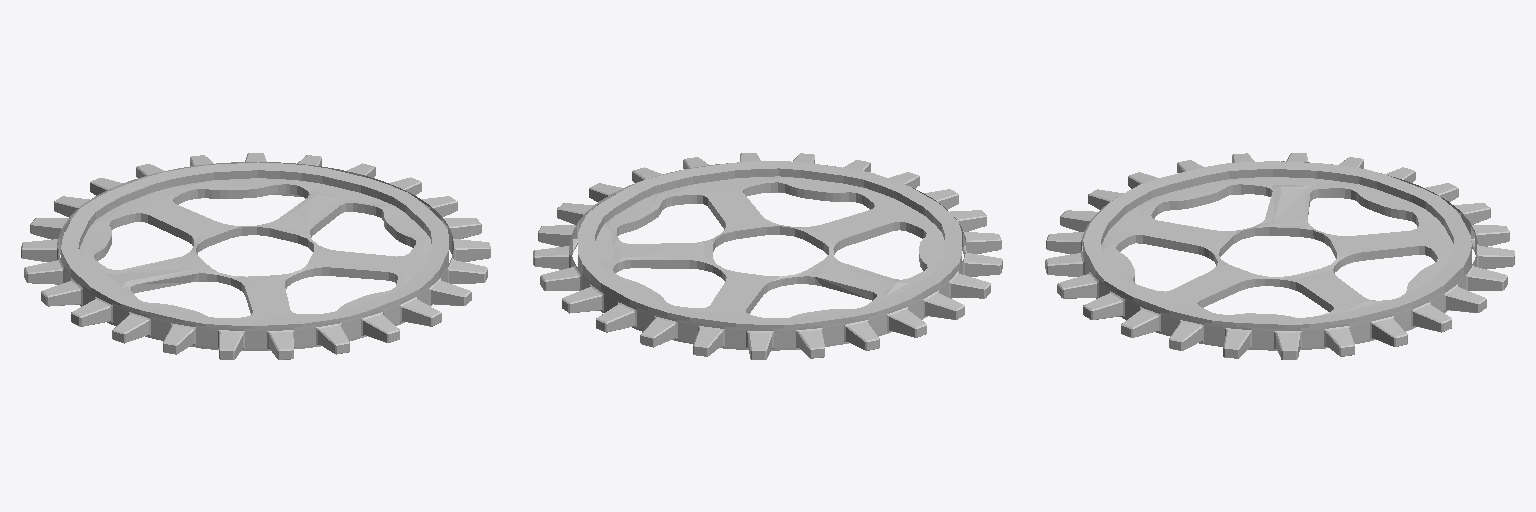
File: GEARHEART.obj
3 views of the same model, side by side, from view 1: azimuth 30°, elevation 25°; view 2: azimuth 150°, elevation 25°; view 3: azimuth 270°, elevation 25° (orthographic).
Parts seen in each view (by area): view 1: GEARHEART; view 2: GEARHEART; view 3: GEARHEART.
Part boxes in pixels (x1,y1,x2,y2): GEARHEART: (21, 153, 490, 359); GEARHEART: (533, 153, 1002, 359); GEARHEART: (1045, 153, 1514, 359).
Bounding box in the file's own units: 6.5 × 0.3839 × 6.5.